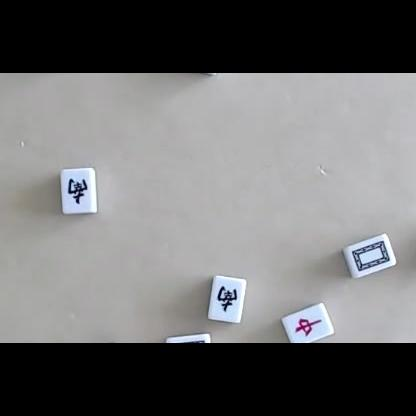2z: (217, 285, 237, 313), (67, 178, 88, 204)
5z: (352, 241, 389, 271), (171, 340, 207, 343)
7z: (295, 318, 323, 336)
